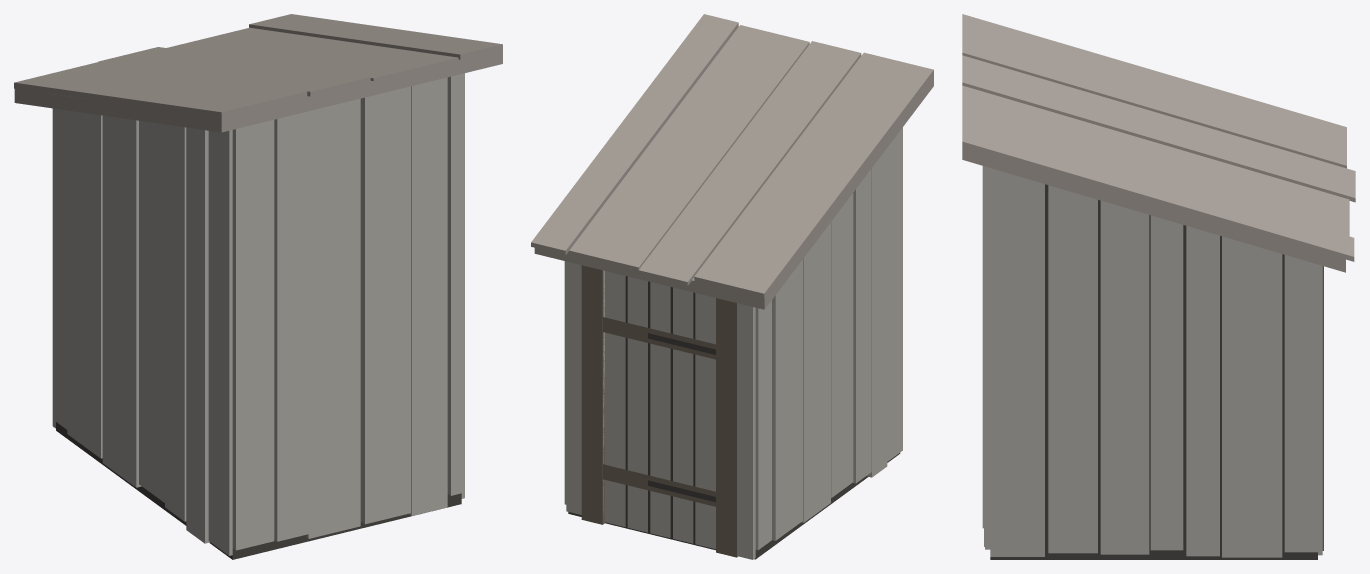
File: recon_1835_blk_washington_lasalle_a3_09__inferred_1835.glb
The picture shows the model from 3 angles, left to right: view 1: azimuth 30°, elevation 25°; view 2: azimuth 150°, elevation 25°; view 3: azimuth 270°, elevation 25°; orthographic projection. The views are drawn at different scales.
Visible parts, largest first — view 1: recon_1835_blk_washington_lasalle_a3_09__inferred_1835; view 2: recon_1835_blk_washington_lasalle_a3_09__inferred_1835; view 3: recon_1835_blk_washington_lasalle_a3_09__inferred_1835.
Part boxes in pixels (x1,y1,x2,y2): recon_1835_blk_washington_lasalle_a3_09__inferred_1835: [14, 14, 502, 559]; recon_1835_blk_washington_lasalle_a3_09__inferred_1835: [531, 14, 933, 559]; recon_1835_blk_washington_lasalle_a3_09__inferred_1835: [962, 14, 1355, 559].
Size of the model in its own units: 1.75 by 2.76 by 2.28.
